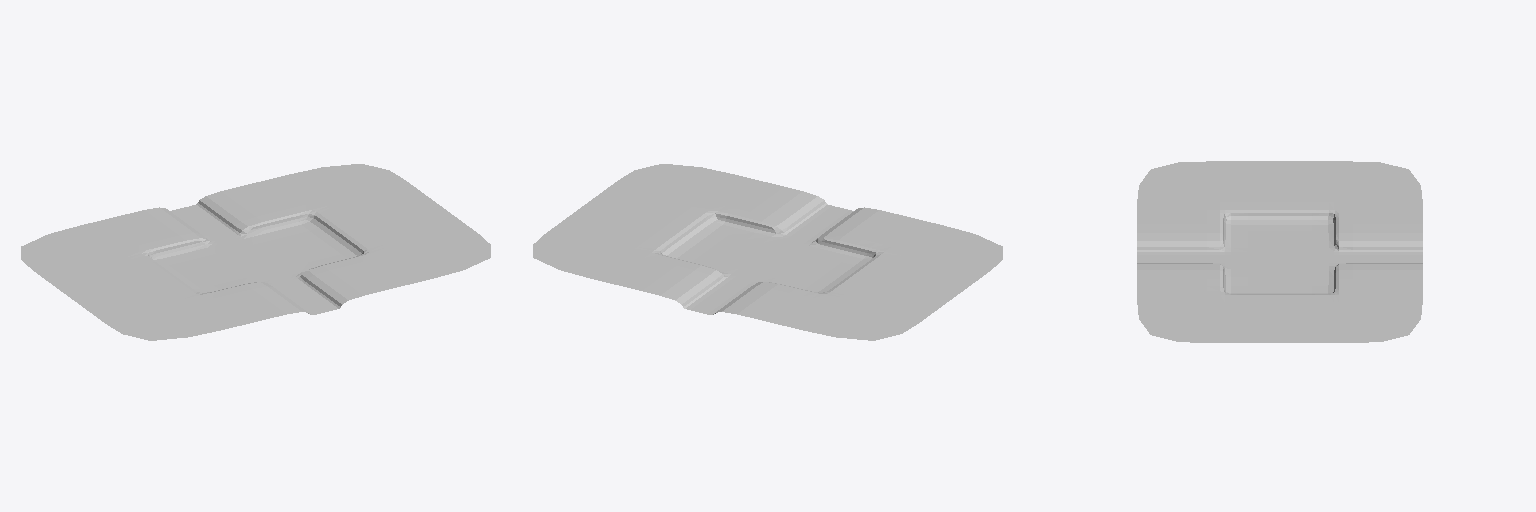
Rendered from groundbase.obj.
3 renders of one model, left to right at view 1: azimuth 30°, elevation 25°; view 2: azimuth 150°, elevation 25°; view 3: azimuth 270°, elevation 25°, orthographic.
Visible parts, largest first — view 1: Ground; view 2: Ground; view 3: Ground.
Part boxes in pixels (bbox=[...]): Ground: bbox=[21, 164, 490, 340]; Ground: bbox=[533, 164, 1002, 340]; Ground: bbox=[1137, 161, 1422, 342].
Bounding box in the file's own units: 16.36 × 0.3118 × 10.87.